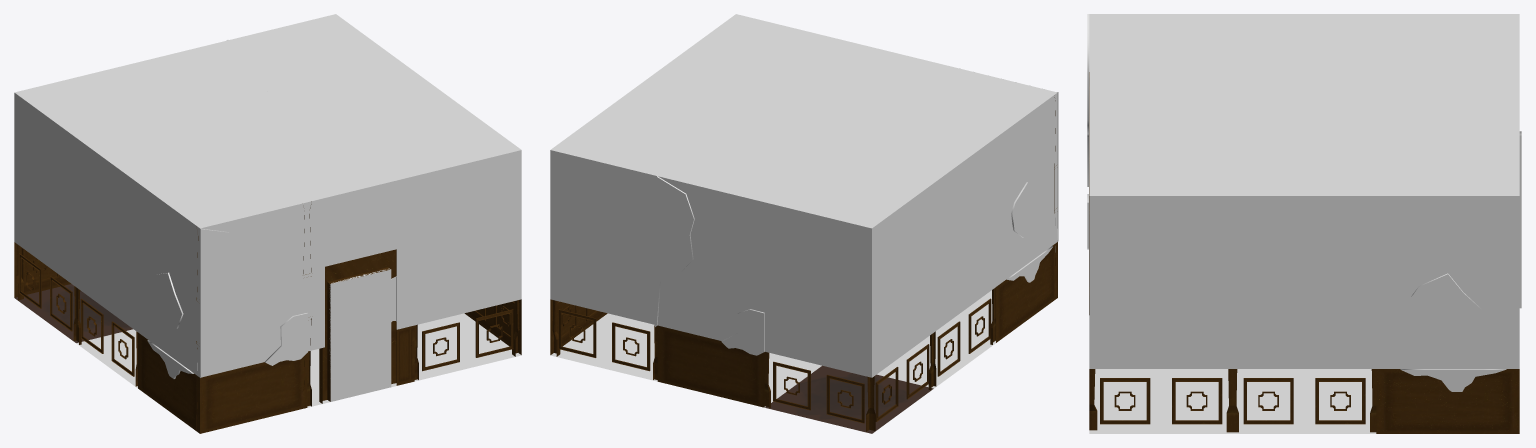
File: new_room.fbx
The picture shows the model from 3 angles, left to right: view 1: azimuth 30°, elevation 25°; view 2: azimuth 150°, elevation 25°; view 3: azimuth 270°, elevation 25°; orthographic projection. The views are drawn at different scales.
Parts seen in each view (by area): view 1: Plane.083, Plane.234, Plane.235, Plane.085, Plane.236, Plane.237, Plane.229, Plane.273, Plane.256, Plane.244, Plane.245, Plane.246 (+11 smaller); view 2: Plane.242, Plane.243, Plane.241, Plane.235, Plane.236, Plane.237, Plane.244, Plane.262, Plane.247, Plane.245, Plane.246, Plane.256 (+9 smaller); view 3: Plane.238, Plane.239, Plane.240, Plane.268, Plane.262, Plane.273, Plane.250, Plane.247, Plane.256, Plane.245, Plane.244, Plane.246 (+8 smaller).
Part boxes in pixels (left/top/right/bottom): Plane.083: left=200, top=202, right=307, bottom=433; Plane.234: left=414, top=155, right=521, bottom=371; Plane.235: left=138, top=183, right=199, bottom=433; Plane.085: left=307, top=182, right=414, bottom=385; Plane.236: left=76, top=138, right=137, bottom=376; Plane.237: left=14, top=93, right=75, bottom=331; Plane.229: left=330, top=269, right=391, bottom=401; Plane.273: left=353, top=104, right=521, bottom=181; Plane.256: left=246, top=131, right=414, bottom=207; Plane.244: left=14, top=66, right=182, bottom=137; Plane.245: left=76, top=111, right=244, bottom=182; Plane.246: left=138, top=157, right=306, bottom=228; Plane.242: left=656, top=176, right=764, bottom=407; Plane.243: left=764, top=208, right=871, bottom=423; Plane.241: left=550, top=155, right=656, bottom=371; Plane.235: left=996, top=93, right=1057, bottom=342; Plane.236: left=934, top=138, right=995, bottom=376; Plane.237: left=872, top=183, right=933, bottom=421; Plane.244: left=764, top=157, right=933, bottom=233; Plane.262: left=550, top=104, right=718, bottom=181; Plane.247: left=657, top=131, right=825, bottom=207; Plane.245: left=827, top=111, right=995, bottom=182; Plane.246: left=889, top=66, right=1057, bottom=137; Plane.256: left=781, top=40, right=949, bottom=111; Plane.238: left=1376, top=202, right=1519, bottom=433; Plane.239: left=1232, top=202, right=1376, bottom=424; Plane.240: left=1089, top=202, right=1232, bottom=424; Plane.268: left=1232, top=135, right=1376, bottom=202; Plane.262: left=1376, top=135, right=1519, bottom=202; Plane.273: left=1089, top=135, right=1232, bottom=202; Plane.250: left=1232, top=74, right=1376, bottom=135; Plane.247: left=1376, top=74, right=1519, bottom=135; Plane.256: left=1089, top=74, right=1232, bottom=135; Plane.245: left=1232, top=14, right=1376, bottom=74; Plane.244: left=1376, top=14, right=1519, bottom=74; Plane.246: left=1089, top=14, right=1232, bottom=74.
Bounding box in the file's own units: 605 × 366 × 605.
